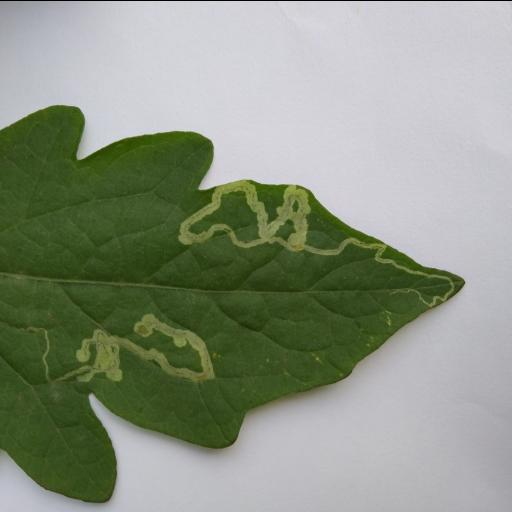disease_tomato: (0, 104, 472, 502)
